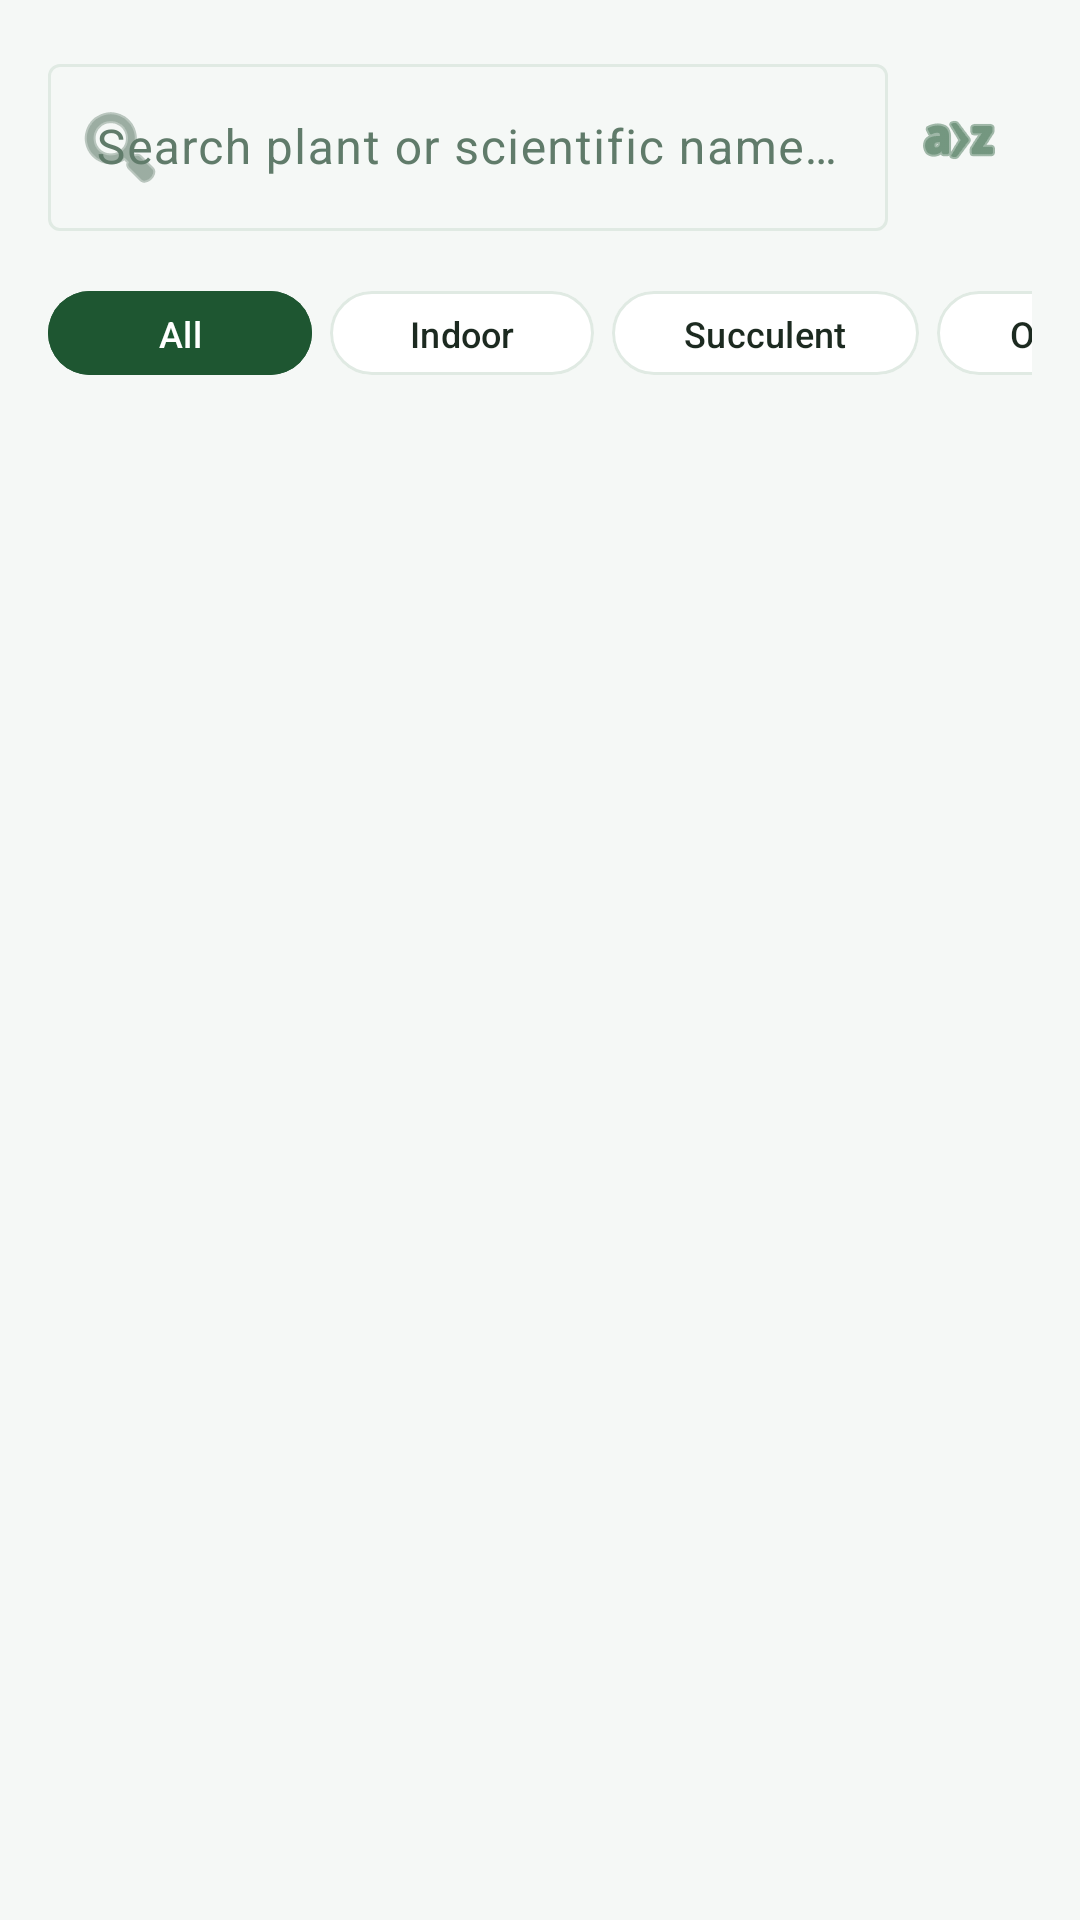

Screen size 1080px x 1920px. Icon name, then its center in pixels as point (x, y):
Sort Alphabetical: point (959, 140)
